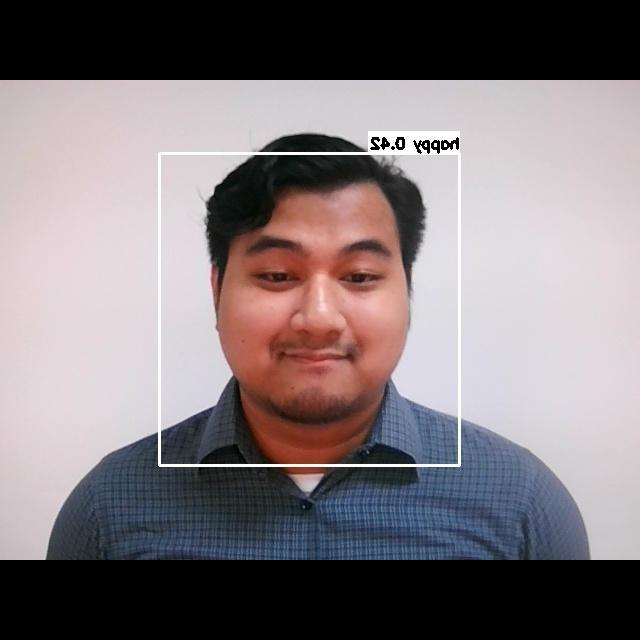Happy: (230, 216, 406, 389)
